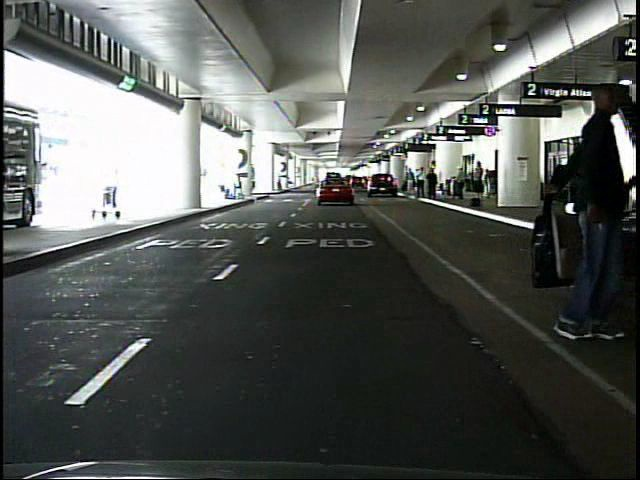person: (545, 87, 625, 345), (562, 140, 595, 246), (471, 162, 485, 207), (453, 166, 467, 202), (426, 167, 439, 202), (414, 165, 426, 200), (405, 168, 416, 197), (275, 172, 284, 189)
